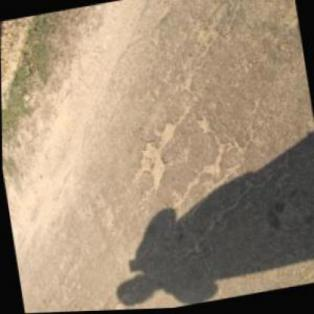Hueco: (127, 119, 185, 194), (193, 116, 214, 138)
